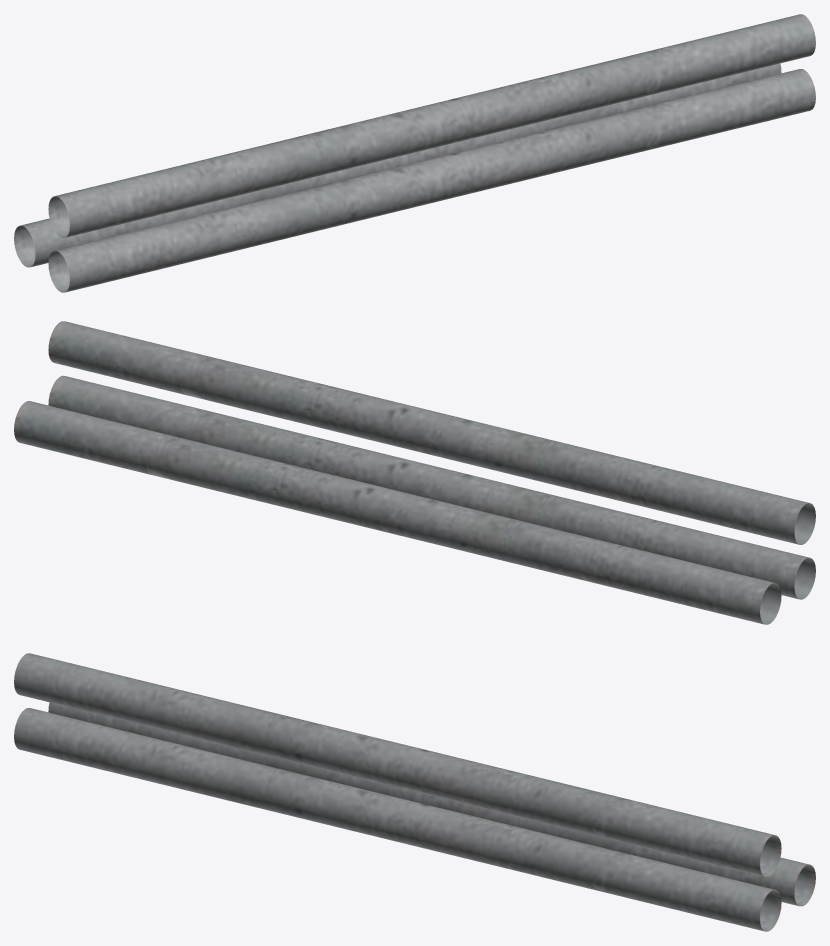
The model's file is pipes.glb.
The picture shows the model from 3 angles, top to bottom: view 1: azimuth 30°, elevation 25°; view 2: azimuth 150°, elevation 25°; view 3: azimuth 330°, elevation 25°; orthographic projection.
Parts seen in each view (by area): view 1: pipe_200cm_metal.001, pipe_200cm_metal.002, pipe_200cm_metal.003; view 2: pipe_200cm_metal.002, pipe_200cm_metal.003, pipe_200cm_metal.001; view 3: pipe_200cm_metal.001, pipe_200cm_metal.002, pipe_200cm_metal.003.
Boxes of the visible parts, x1,y1,x2,y2 form: pipe_200cm_metal.001: (48,69,815,292); pipe_200cm_metal.002: (48,14,815,237); pipe_200cm_metal.003: (14,63,781,267); pipe_200cm_metal.002: (48,321,815,544); pipe_200cm_metal.003: (14,401,781,624); pipe_200cm_metal.001: (48,375,815,599); pipe_200cm_metal.001: (14,708,781,931); pipe_200cm_metal.002: (14,653,781,876); pipe_200cm_metal.003: (48,702,815,906).
Bounding box in the file's own units: 2 × 0.24 × 0.26.
1 material, 1 textured.
